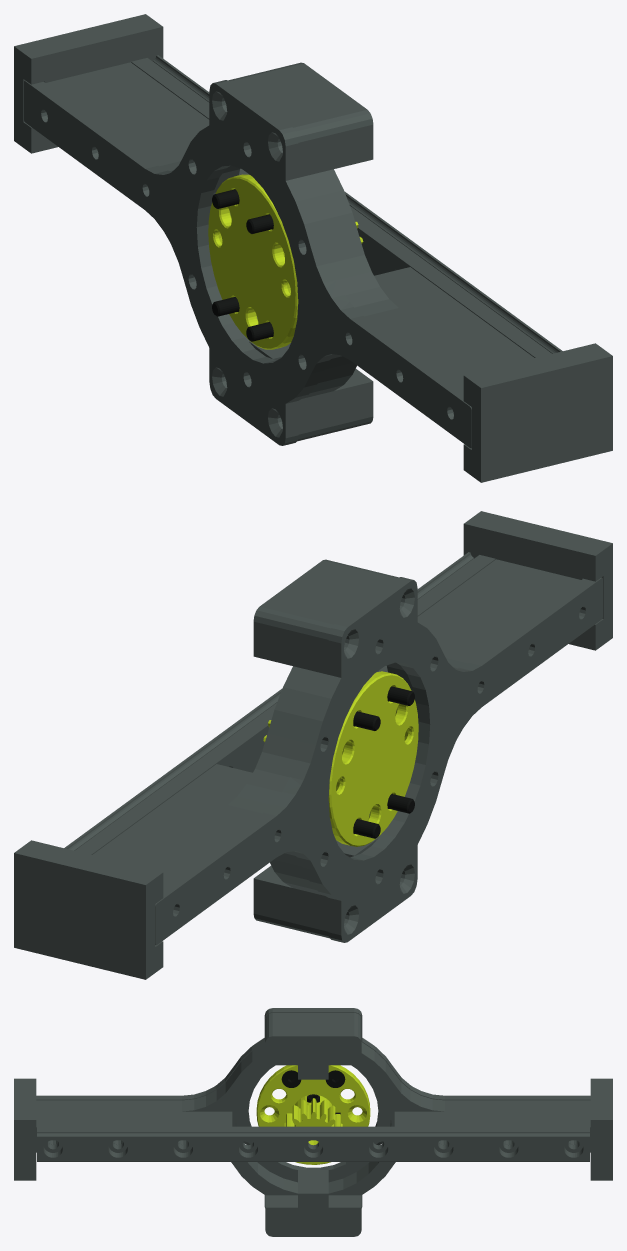
The model's file is colored_gripper_base.dae.
The picture shows the model from 3 angles, top to bottom: view 1: azimuth 30°, elevation 25°; view 2: azimuth 150°, elevation 25°; view 3: azimuth 270°, elevation 25°; orthographic projection. The views are drawn at different scales.
Visible parts, largest first — view 1: gripper_base; view 2: gripper_base; view 3: gripper_base.
Boxes of the visible parts, left/top/right/bottom form: gripper_base: left=14, top=14, right=612, bottom=482; gripper_base: left=14, top=511, right=612, bottom=979; gripper_base: left=14, top=1008, right=612, bottom=1236.
Bounding box in the file's own units: 0.0335 × 0.1841 × 0.0685.
